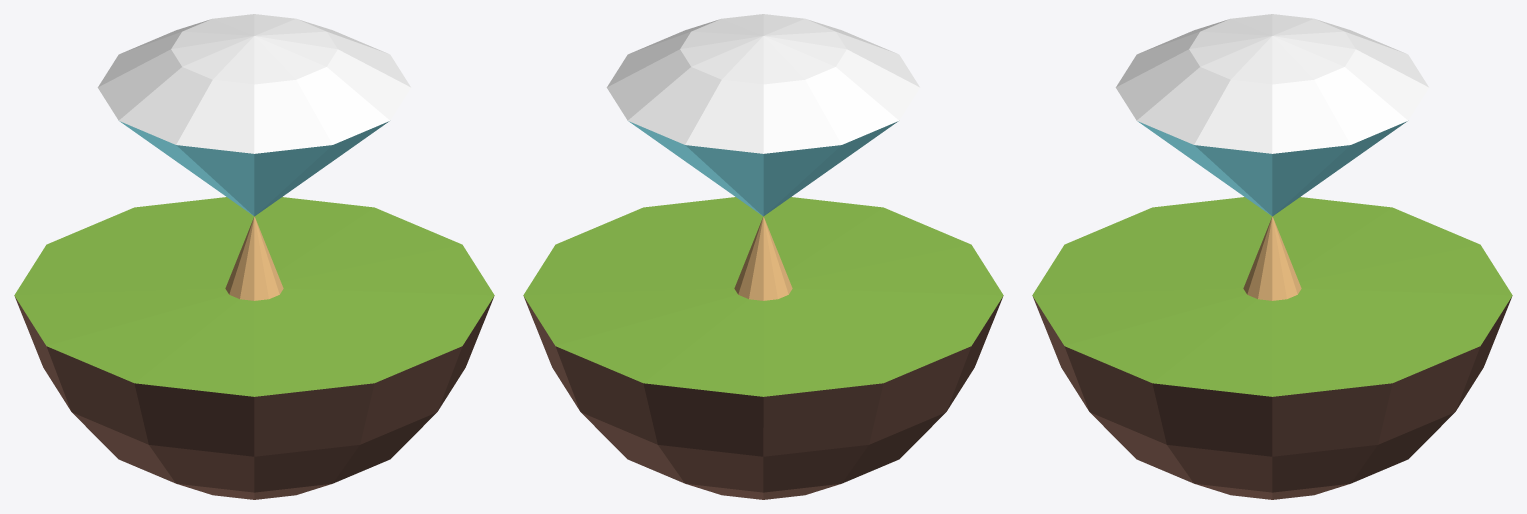
The model's file is Abstract-island.obj.
3 views of the same model, side by side, from view 1: azimuth 30°, elevation 25°; view 2: azimuth 150°, elevation 25°; view 3: azimuth 270°, elevation 25° (orthographic).
Visible parts, largest first — view 1: group2007005856; view 2: group2007005856; view 3: group2007005856.
Boxes of the visible parts, left/top/right/bottom form: group2007005856: left=14, top=14, right=494, bottom=499; group2007005856: left=523, top=14, right=1003, bottom=499; group2007005856: left=1032, top=14, right=1512, bottom=499.
Bounding box in the file's own units: 0.2856 × 0.29 × 0.2856.
